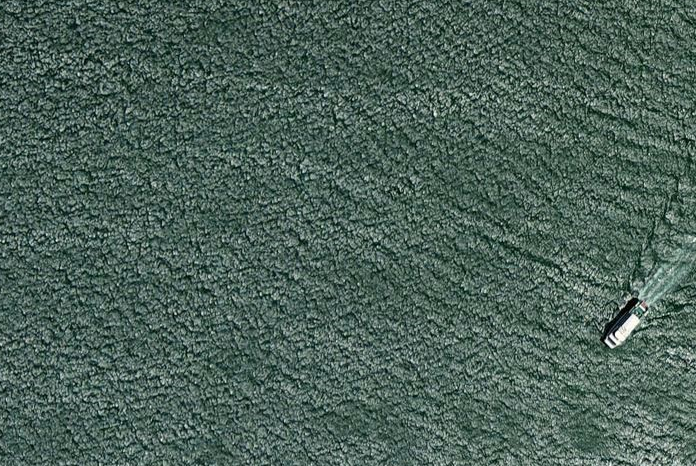ship: (598, 299, 658, 354)
